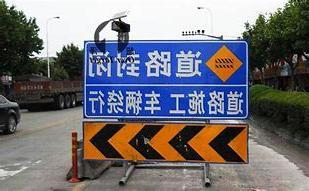sign: (82, 40, 250, 165)
